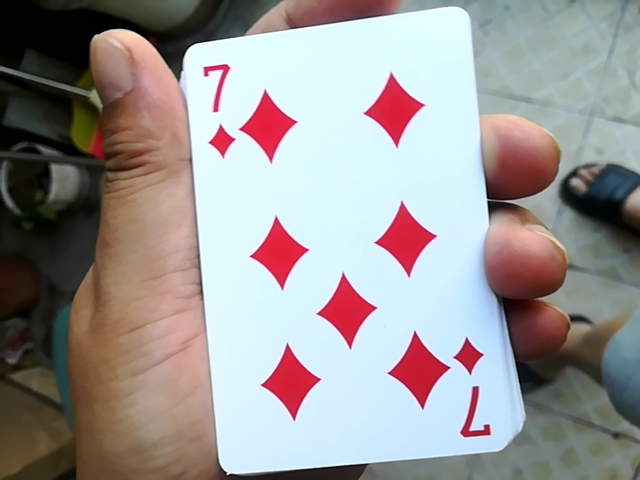fk 7: (184, 10, 498, 463)
